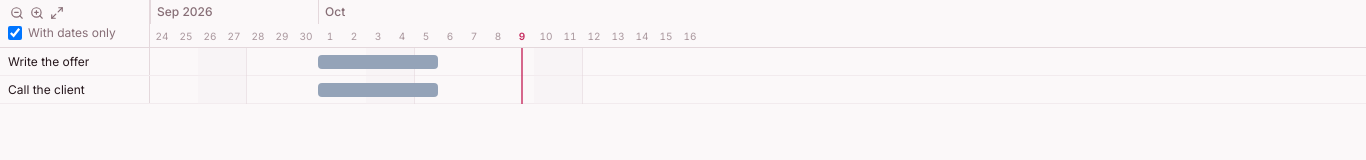
Test: renaming on the timeline › opens the name for editing on a double-click, with the name in it
The image size is (1366, 160).
Double-click the element showing "Write the offer" at {"x": 75, "y": 62}, box top-left (0, 48), bottom-right (150, 75)
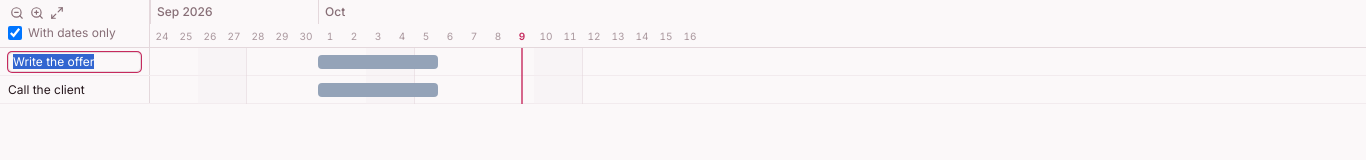
expect the field holds "Write the offer": met, box top-left (8, 52), bottom-right (141, 72)
